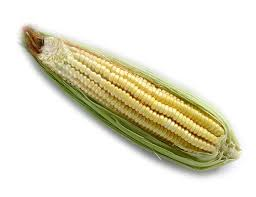milho: (23, 22, 240, 177)
